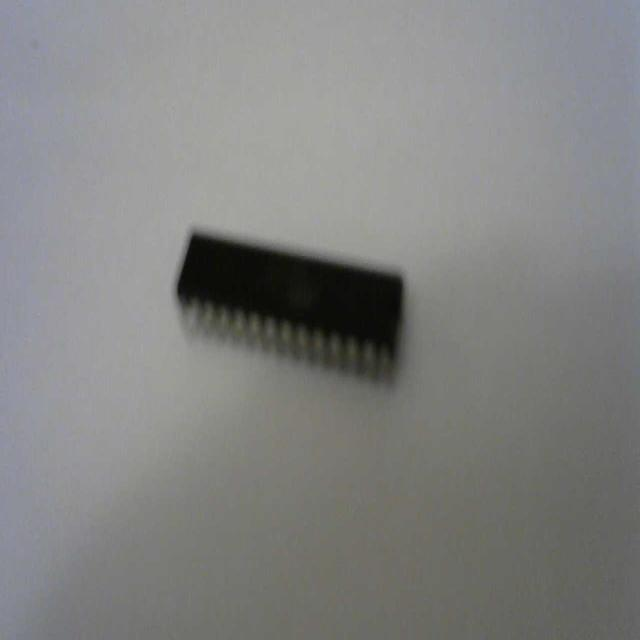atmega: (173, 223, 407, 390)
